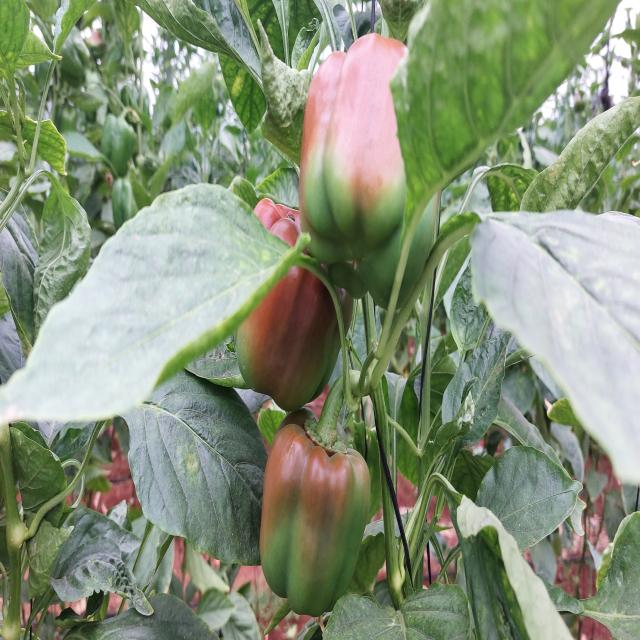BrownishRed--Can-be-Harvested: (304, 52, 444, 250), (258, 418, 380, 619), (232, 214, 349, 396)
